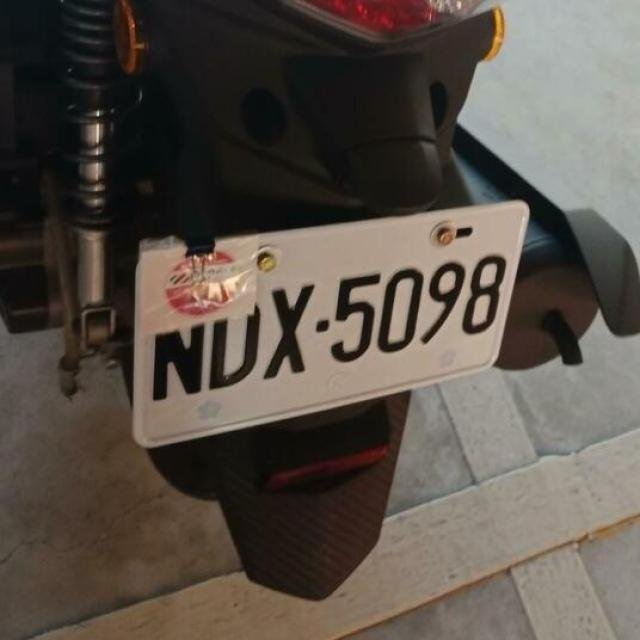W: (107, 179, 538, 467)
